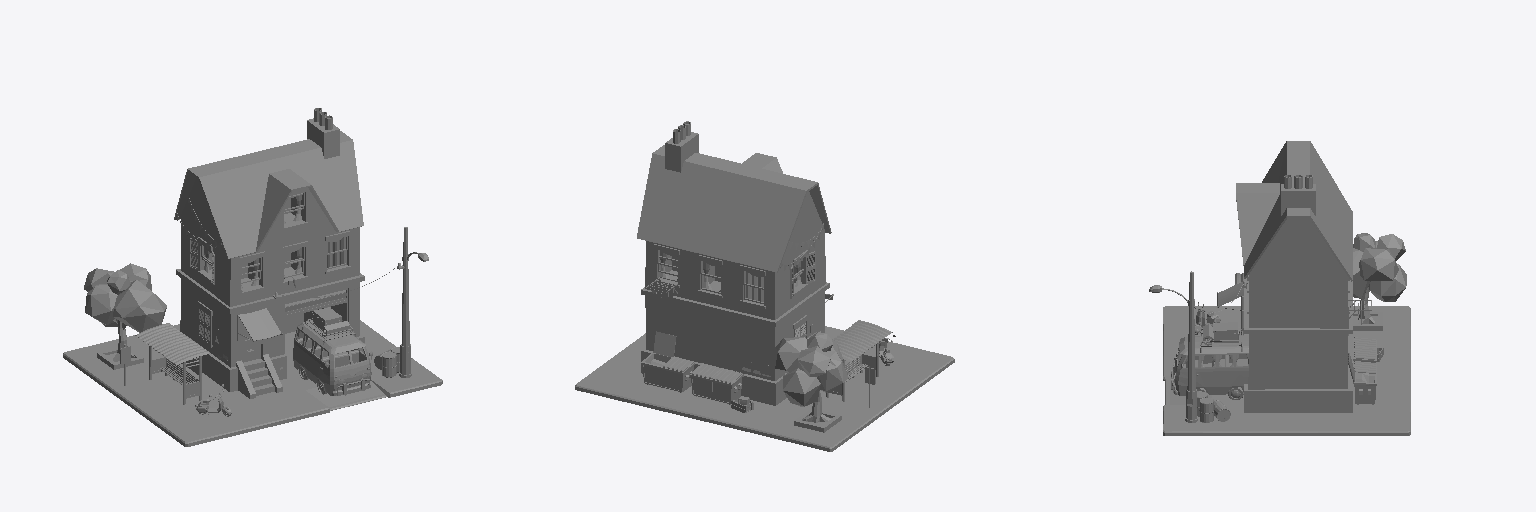
The model's file is ctmcasa.obj.
3 renders of one model, left to right at view 1: azimuth 30°, elevation 25°; view 2: azimuth 150°, elevation 25°; view 3: azimuth 270°, elevation 25°, orthographic.
Parts seen in each view (by area): view 1: House_Mesh.009, Sidewalk_Mesh.012, Kombi_Mesh.010, Tree_Mesh.014, BusStop_Mesh.006, LightPost_Mesh.011, Bricks_Mesh.031; view 2: House_Mesh.009, Sidewalk_Mesh.012, Graffiti_Mesh.026, Tree_Mesh.014, BusStop_Mesh.006, Garbage_open_Mesh.008, Garbage_closed_Mesh.019, Bricks_Mesh.031; view 3: House_Mesh.009, Sidewalk_Mesh.012, Graffiti_Mesh.026, Kombi_Mesh.010, Tree_Mesh.014, LightPost_Mesh.011, Garbage_open_Mesh.008, Bricks_Mesh.031, Garbage_closed_Mesh.019.
Part boxes in pixels (x1,y1,x2,y2): House_Mesh.009: (174, 108, 364, 398); Sidewalk_Mesh.012: (63, 320, 442, 446); Kombi_Mesh.010: (293, 307, 372, 395); Tree_Mesh.014: (84, 263, 166, 369); BusStop_Mesh.006: (120, 323, 208, 404); LightPost_Mesh.011: (399, 227, 428, 377); Bricks_Mesh.031: (180, 280, 359, 337); House_Mesh.009: (637, 121, 833, 405); Sidewalk_Mesh.012: (575, 326, 954, 451); Graffiti_Mesh.026: (645, 296, 768, 368); Tree_Mesh.014: (775, 332, 848, 432); BusStop_Mesh.006: (826, 320, 892, 407); Garbage_open_Mesh.008: (641, 331, 694, 392); Garbage_closed_Mesh.019: (690, 363, 743, 404); Bricks_Mesh.031: (645, 256, 825, 380); House_Mesh.009: (1217, 141, 1352, 412); Sidewalk_Mesh.012: (1163, 306, 1410, 435); Graffiti_Mesh.026: (1253, 253, 1343, 388); Kombi_Mesh.010: (1171, 322, 1248, 399); Tree_Mesh.014: (1353, 233, 1406, 330); LightPost_Mesh.011: (1149, 271, 1197, 422); Garbage_open_Mesh.008: (1348, 353, 1376, 404); Bricks_Mesh.031: (1248, 307, 1348, 389); Garbage_closed_Mesh.019: (1353, 337, 1376, 362).
Size of the model in its own units: 21.71 by 18.86 by 19.06.